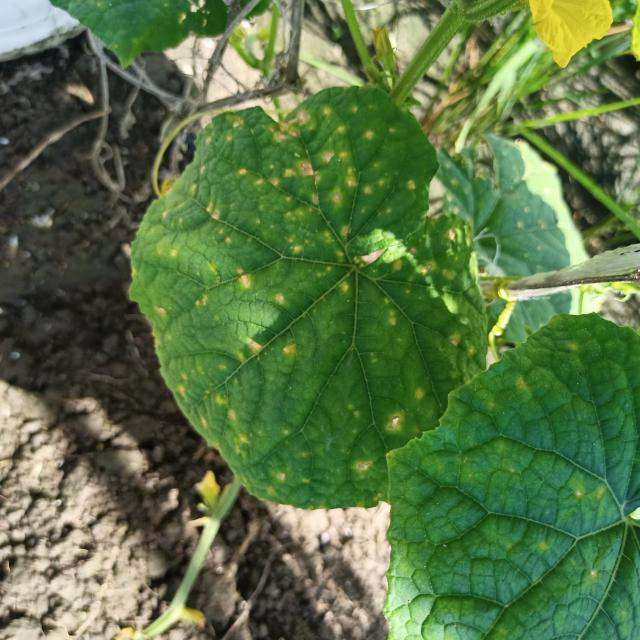disease_cucumber: (145, 89, 482, 503)
